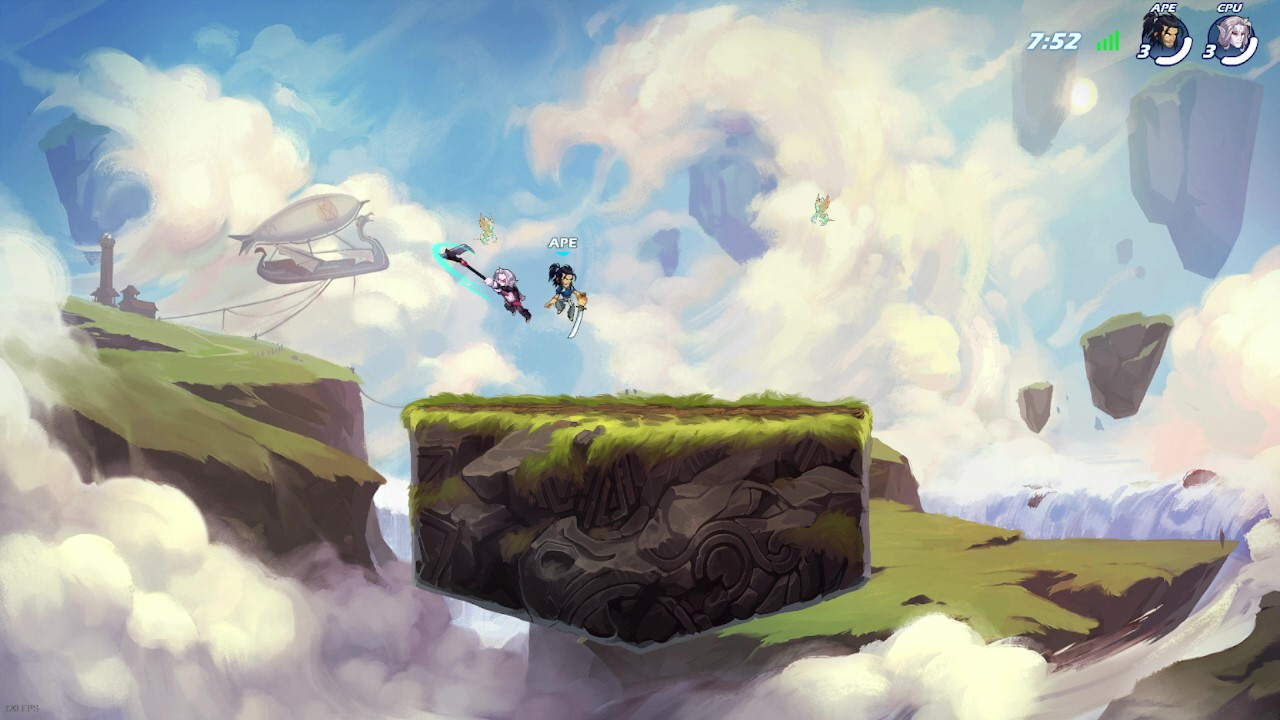koji_health_white: (1154, 15, 1193, 66)
koji_lives_3: (1136, 11, 1184, 59)
time_seconds_472: (1027, 32, 1082, 49)
volkov_health_white: (1220, 16, 1259, 66)
volkov_lives_3: (1202, 15, 1256, 59)
